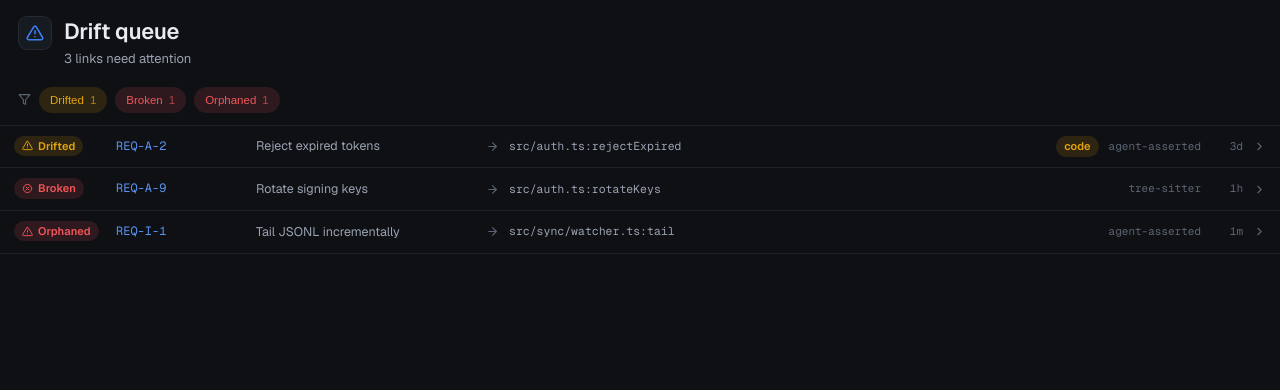
Scenario: Drift repair actions (REQ-TVIZ-009.A2) › A2: a failed launch surfaces the error and leaves the row usable
Click the text "REQ-A-2" at coordinates (141, 146), box [116,138,166,154]
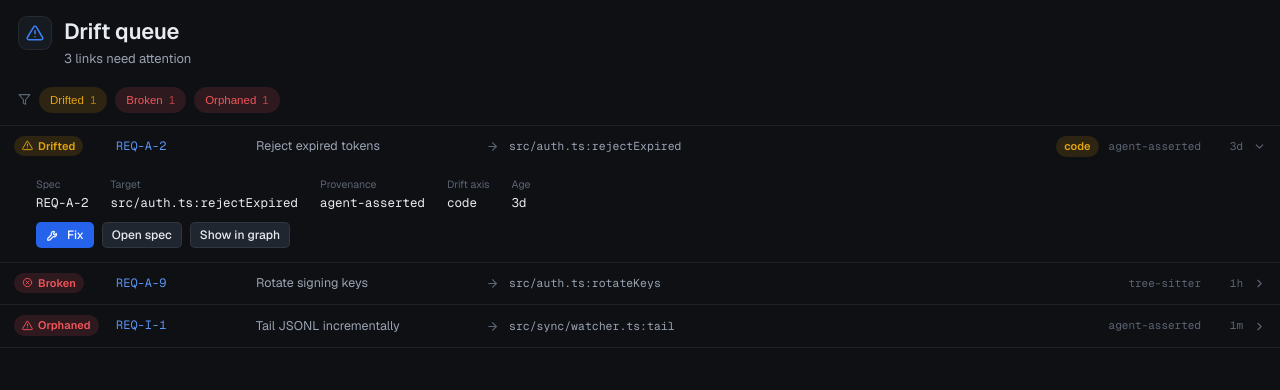
Click the button "Fix" at coordinates (65, 235), box [36,222,94,248]
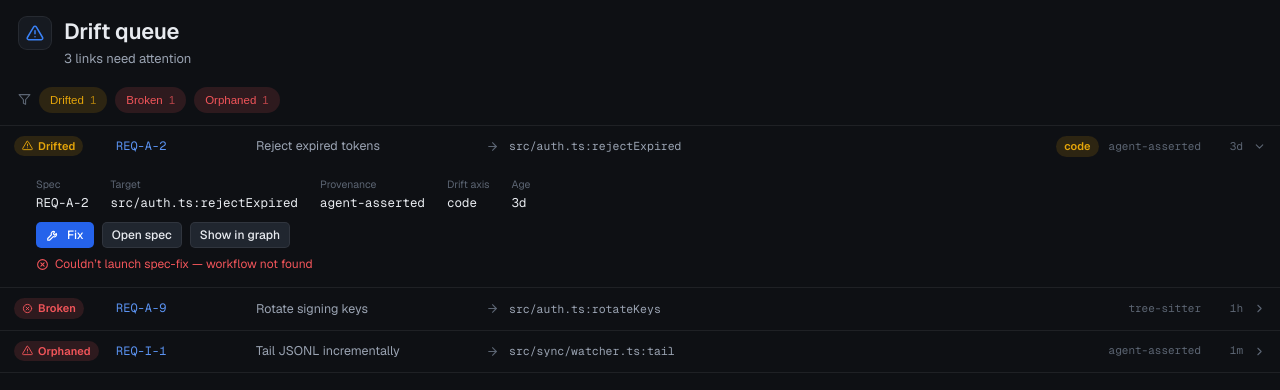
Now the button "Fix" is enabled, box [36,222,94,248]
Now the message shows "workflow not found", box [206,256,313,272]
